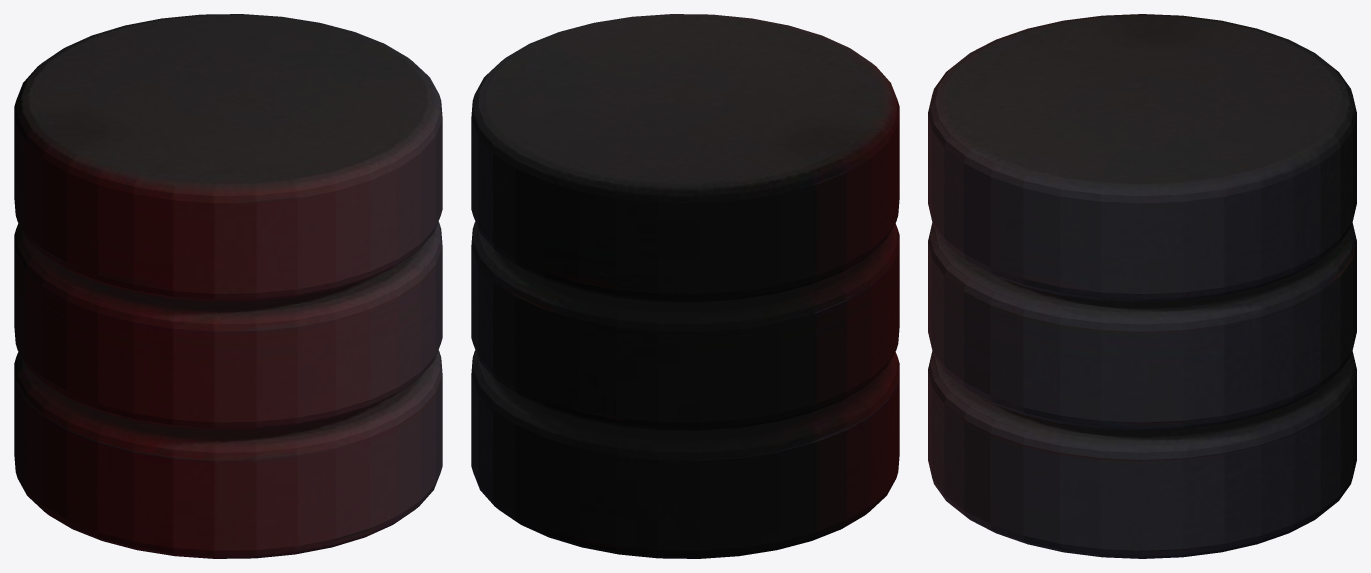
Rendered from database.glb.
3 renders of one model, left to right at view 1: azimuth 30°, elevation 25°; view 2: azimuth 150°, elevation 25°; view 3: azimuth 270°, elevation 25°, orthographic.
Parts seen in each view (by area): view 1: database; view 2: database; view 3: database.
Boxes of the visible parts, left/top/right/bottom form: database: left=14, top=14, right=442, bottom=558; database: left=471, top=14, right=899, bottom=558; database: left=928, top=14, right=1356, bottom=558.
Size of the model in its own units: 2.88 by 2.76 by 2.88.
1 material, 1 textured.
